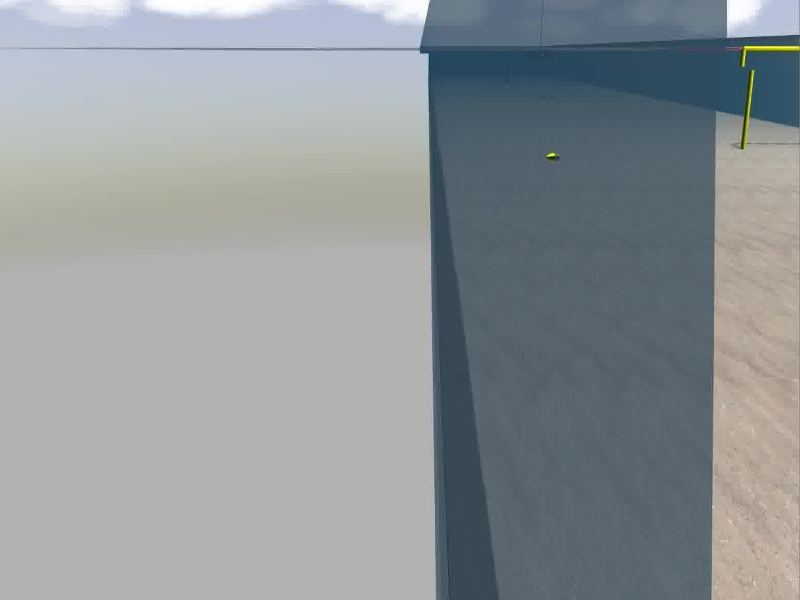gate: (736, 44, 800, 148)
